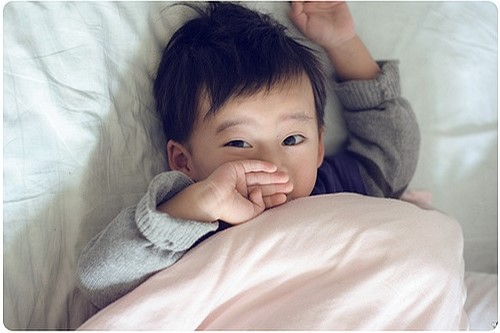face: (196, 85, 321, 222)
